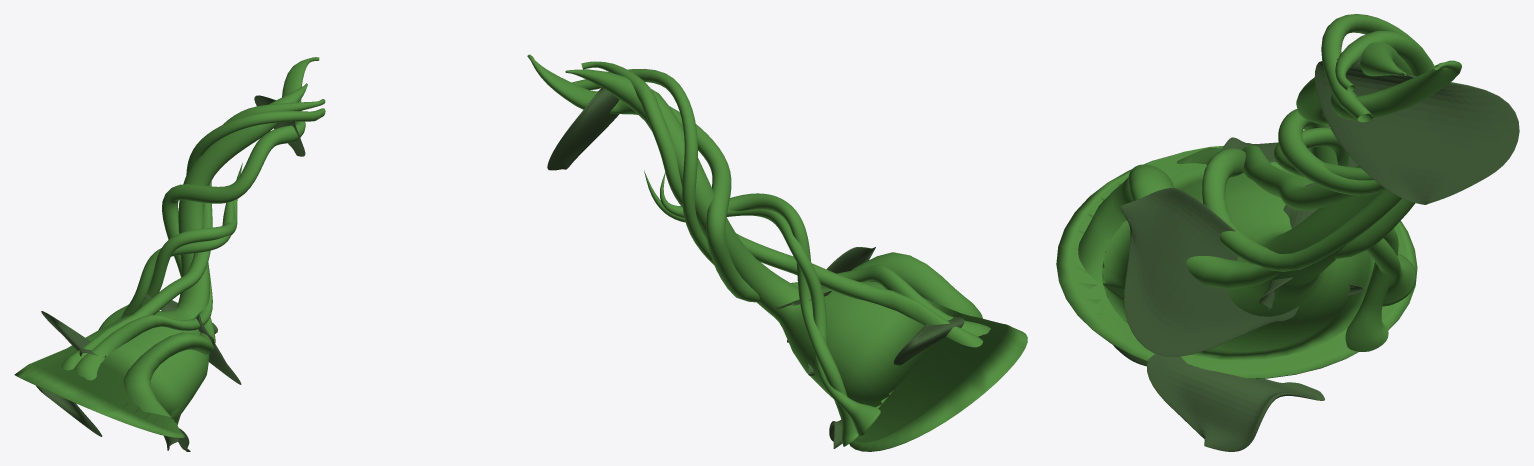
File: BeansalkBridge#03.fbx
The picture shows the model from 3 angles, left to right: view 1: azimuth 30°, elevation 25°; view 2: azimuth 150°, elevation 25°; view 3: azimuth 270°, elevation 25°; orthographic projection. The views are drawn at different scales.
Visible parts, largest first — view 1: Stalk12.083, Stalk12.080, Stalk12.079, Stalk12.081, Stalk12.078, Stalk12.077, Stalk12.083|Plane.013|Dupli|2, Stalk12.083|Plane.013|Dupli|7, Stalk12.083|Plane.013|Dupli|6, Stalk12.083|Plane.013|Dupli|5; view 2: Stalk12.083, Stalk12.080, Stalk12.081, Stalk12.079, Stalk12.078, Stalk12.077, Stalk12.083|Plane.013|Dupli|5, Stalk12.083|Plane.013|Dupli|7, Stalk12.083|Plane.013|Dupli|6; view 3: Stalk12.083, Stalk12.083|Plane.013|Dupli|5, Stalk12.083|Plane.013|Dupli|6, Stalk12.080, Stalk12.079, Stalk12.083|Plane.013|Dupli|3, Stalk12.078, Stalk12.081, Stalk12.077, Stalk12.083|Plane.013|Dupli|, Stalk12.083|Plane.013|Dupli|7.
Part boxes in pixels (<box>): Stalk12.083: <box>14,83,307,438</box>; Stalk12.080: <box>123,57,319,418</box>; Stalk12.079: <box>74,108,325,380</box>; Stalk12.081: <box>61,99,325,370</box>; Stalk12.078: <box>98,163,242,329</box>; Stalk12.077: <box>121,200,234,318</box>; Stalk12.083|Plane.013|Dupli|2: <box>36,385,102,436</box>; Stalk12.083|Plane.013|Dupli|7: <box>41,311,106,357</box>; Stalk12.083|Plane.013|Dupli|6: <box>196,314,241,384</box>; Stalk12.083|Plane.013|Dupli|5: <box>254,95,305,156</box>; Stalk12.083: <box>565,69,1027,451</box>; Stalk12.080: <box>527,54,982,318</box>; Stalk12.081: <box>581,61,983,347</box>; Stalk12.079: <box>571,69,990,336</box>; Stalk12.078: <box>644,170,858,446</box>; Stalk12.077: <box>660,172,880,438</box>; Stalk12.083|Plane.013|Dupli|5: <box>547,86,619,170</box>; Stalk12.083|Plane.013|Dupli|7: <box>893,317,964,365</box>; Stalk12.083|Plane.013|Dupli|6: <box>787,247,875,342</box>; Stalk12.083: <box>1056,42,1417,378</box>; Stalk12.083|Plane.013|Dupli|5: <box>1314,56,1519,204</box>; Stalk12.083|Plane.013|Dupli|6: <box>1120,188,1299,356</box>; Stalk12.080: <box>1078,60,1461,289</box>; Stalk12.079: <box>1176,14,1434,271</box>; Stalk12.083|Plane.013|Dupli|3: <box>1146,354,1324,451</box>; Stalk12.078: <box>1278,109,1398,351</box>; Stalk12.081: <box>1242,31,1433,210</box>; Stalk12.077: <box>1274,127,1416,306</box>; Stalk12.083|Plane.013|Dupli|: <box>1259,183,1317,310</box>; Stalk12.083|Plane.013|Dupli|7: <box>1220,137,1358,167</box>.
Bounding box in the file's own units: 101 × 75.35 × 53.42.
